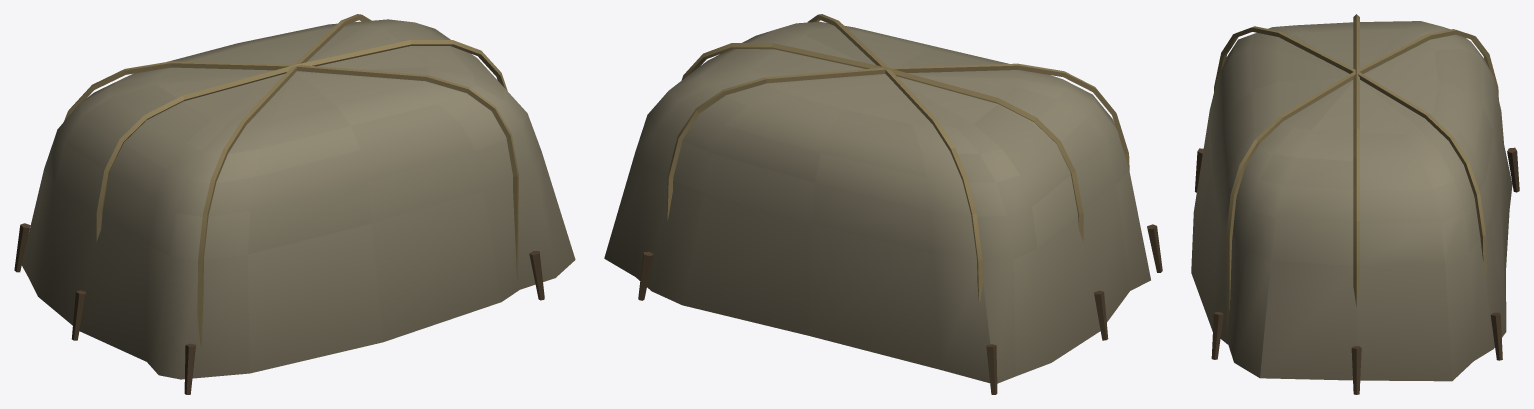
Rendered from bulto_lona.glb.
The picture shows the model from 3 angles, left to right: view 1: azimuth 30°, elevation 25°; view 2: azimuth 150°, elevation 25°; view 3: azimuth 270°, elevation 25°; orthographic projection. The views are drawn at different scales.
Parts seen in each view (by area): view 1: BultoLona; view 2: BultoLona; view 3: BultoLona.
Boxes of the visible parts, x1,y1,x2,y2 form: BultoLona: (14,14,575,394); BultoLona: (604,14,1162,394); BultoLona: (1191,14,1519,394).
Size of what is drawn, in the model's own units: 1.95 by 0.8716 by 1.24.
